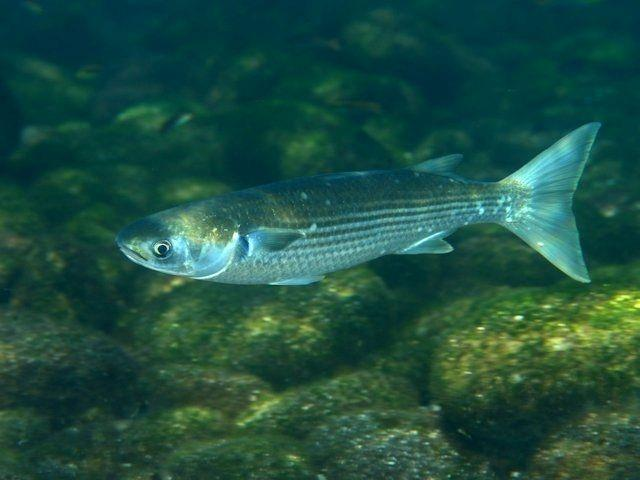Mullet: (117, 120, 620, 295)
